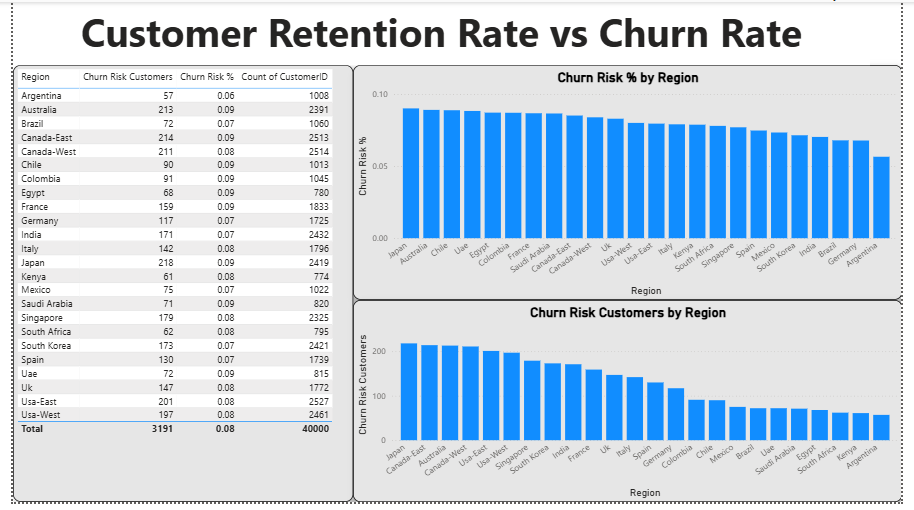

Layout of this report page (visuals, bound fields, positions):
{"tool":"powerbi","page":{"name":"Retention vs Churn","canvas":[1280,720],"ordinal":5},"visuals":[{"type":"tableEx","fields":{"Values":["Telecom_RegionalPeople.Region","Measure.Churn Risk Customers","Measure.Churn Risk %","Telecom_Customers.CustomerID"]},"box":[0,90.7,489.6,629.3],"z":0},{"type":"clusteredColumnChart","fields":{"Category":["Telecom_RegionalPeople.Region"],"Y":["Measure.Churn Risk %"]},"box":[489.6,90.7,790.6,338.4],"z":1000},{"type":"textbox","box":[0,0,1234.1,90.7],"z":2000},{"type":"clusteredColumnChart","fields":{"Category":["Telecom_RegionalPeople.Region"],"Y":["Measure.Churn Risk Customers"]},"box":[489.6,429.1,790.6,290.9],"z":12000}]}

Visuals, with their boxes in screenshot pixels (x1, y1, x2, y2), scaled from the page's 1280x720 canvas onto the 914x510 screenshot:
tableEx - Telecom_RegionalPeople.Region x Measure.Churn Risk Customers: x1=0, y1=64, x2=350, y2=509
clusteredColumnChart - Telecom_RegionalPeople.Region x Measure.Churn Risk %: x1=350, y1=64, x2=913, y2=304
textbox: x1=0, y1=0, x2=881, y2=64
clusteredColumnChart - Telecom_RegionalPeople.Region x Measure.Churn Risk Customers: x1=350, y1=304, x2=913, y2=509
